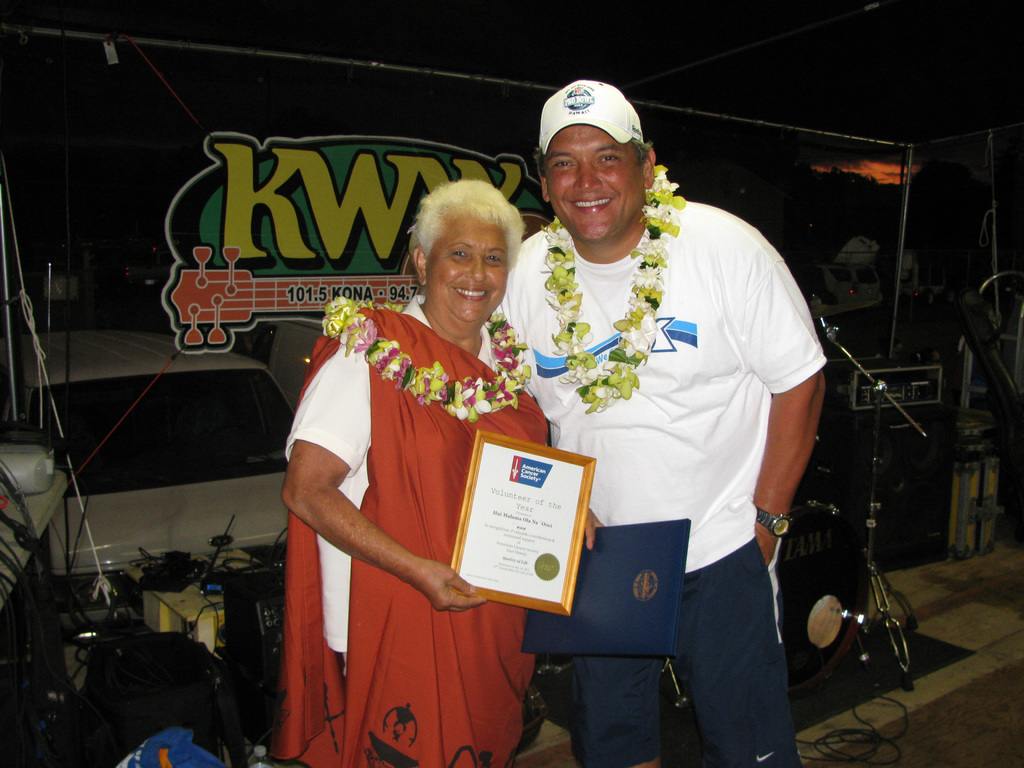Human-face: (544, 125, 644, 243), (433, 214, 508, 326)
